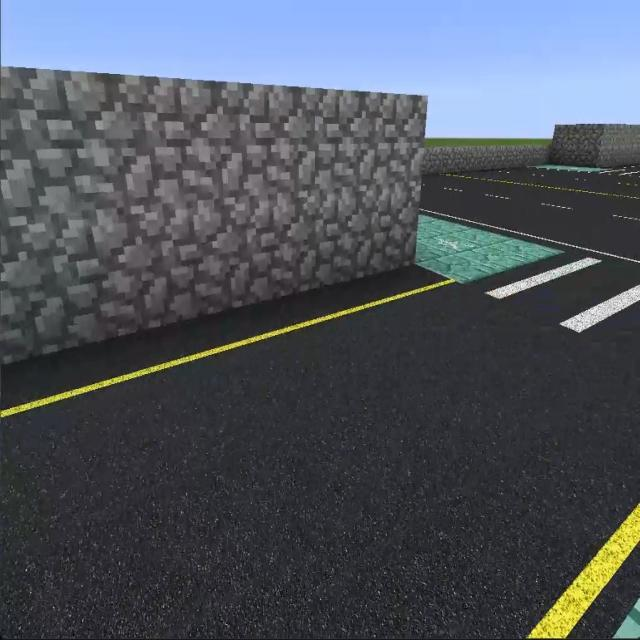crosswalk: (476, 250, 638, 363)
road: (6, 268, 638, 632), (416, 172, 636, 266)
sidewalk: (415, 215, 562, 283), (534, 164, 604, 171)
